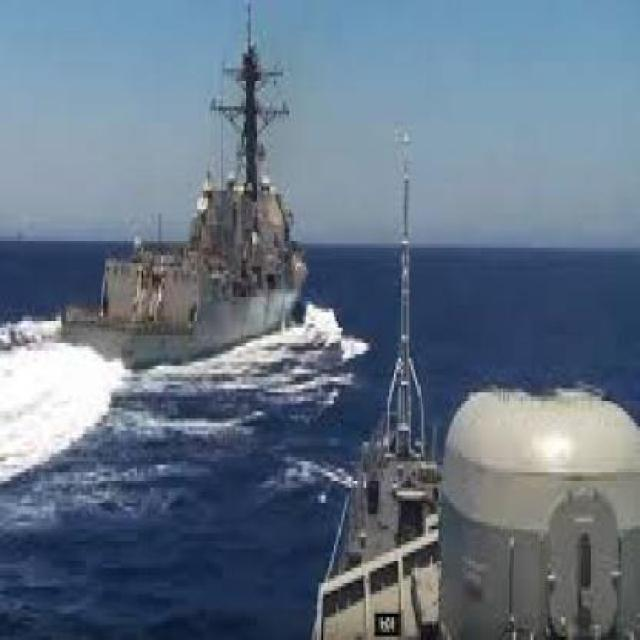warship2: (76, 16, 329, 378)
